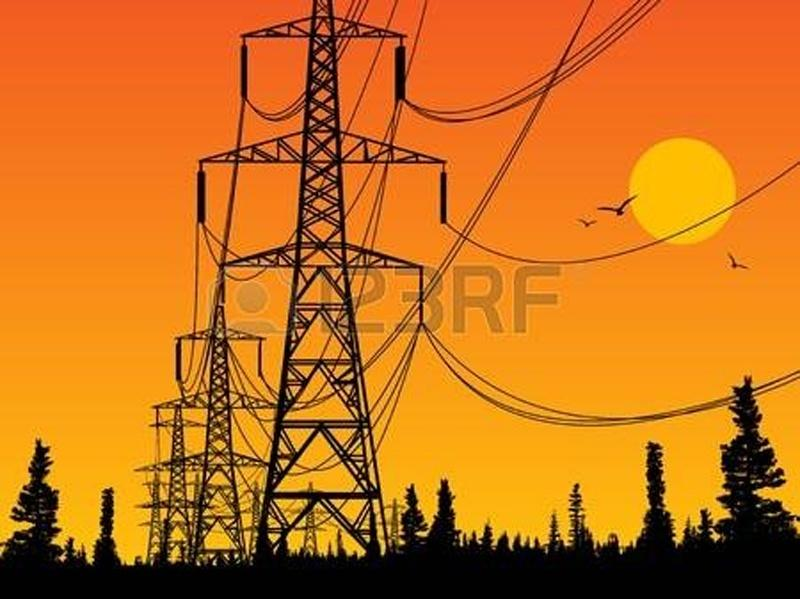power_tower: (185, 16, 461, 548), (174, 302, 253, 550)
